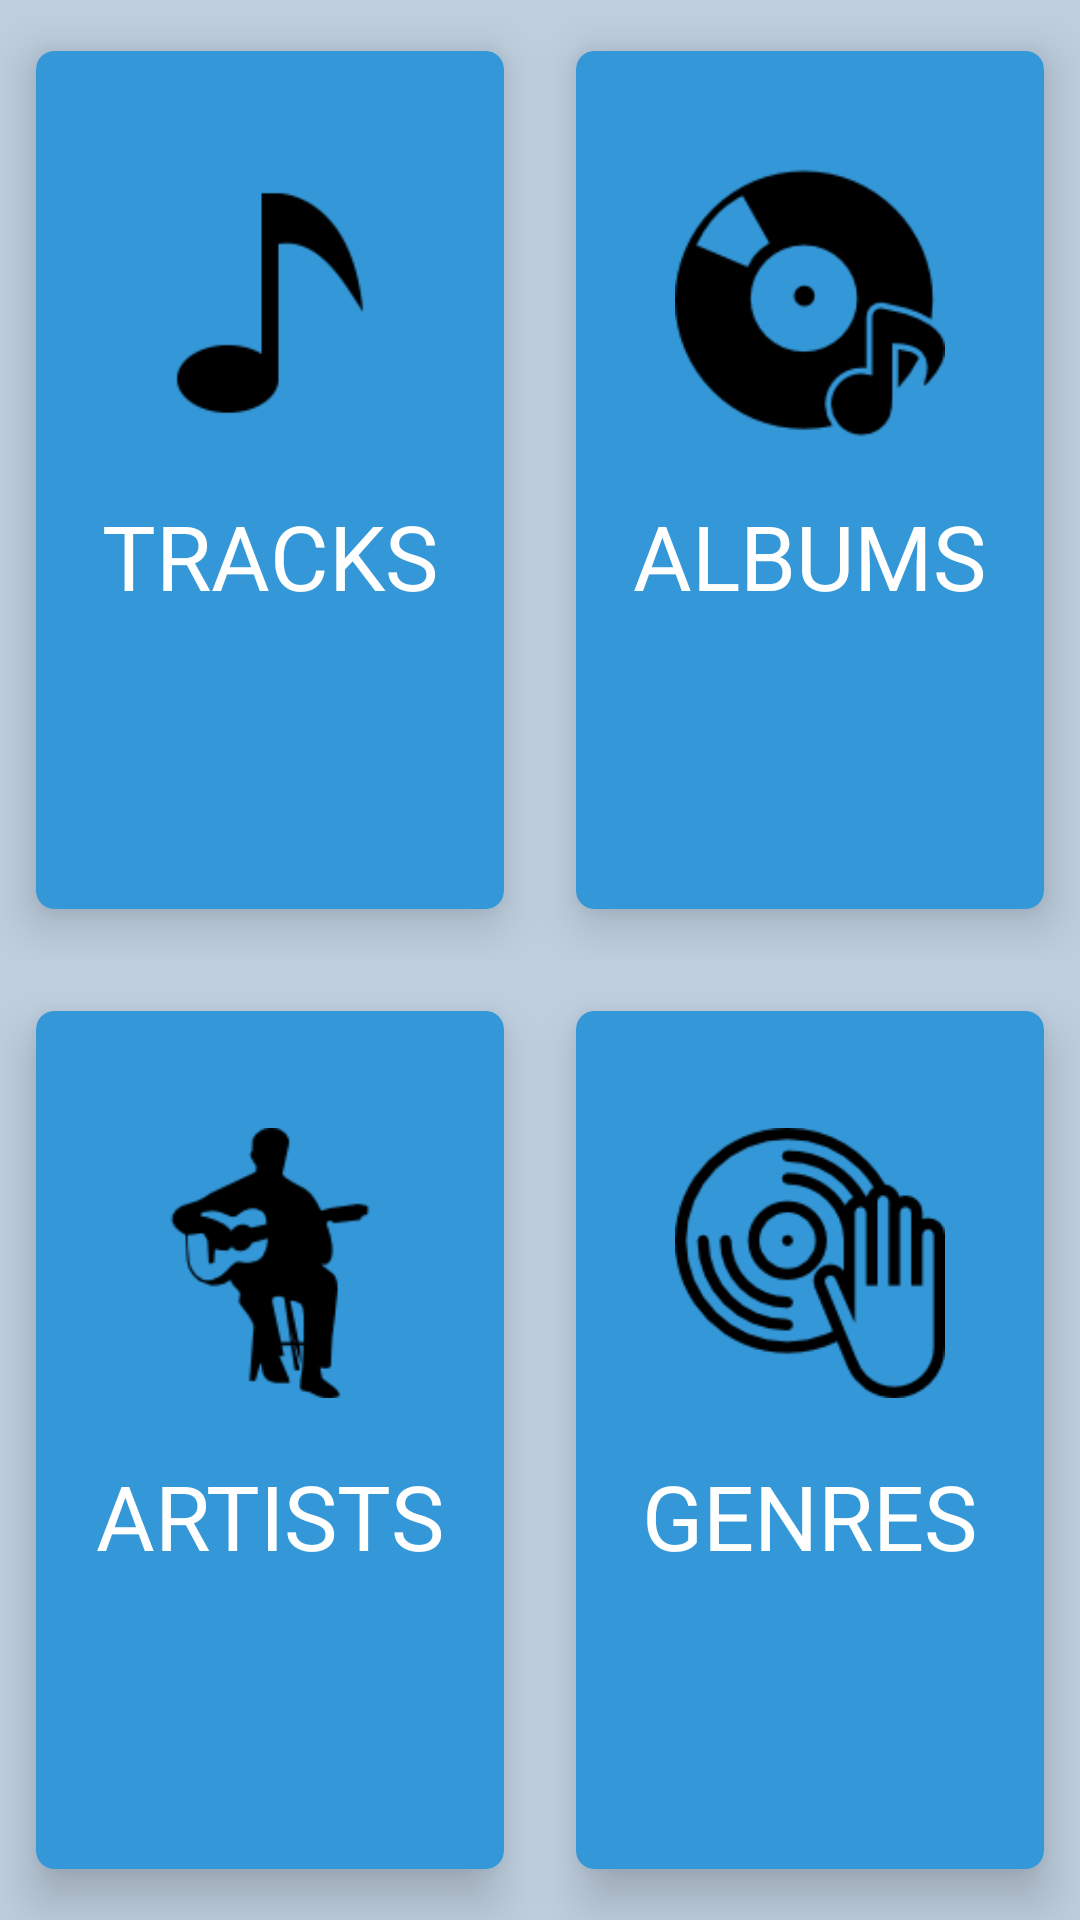

Named icons in this screenshot (1080 x 1920) and their bounding boxes, (x1, y1, x2, y2):
musicnote: (176, 192, 364, 414)
